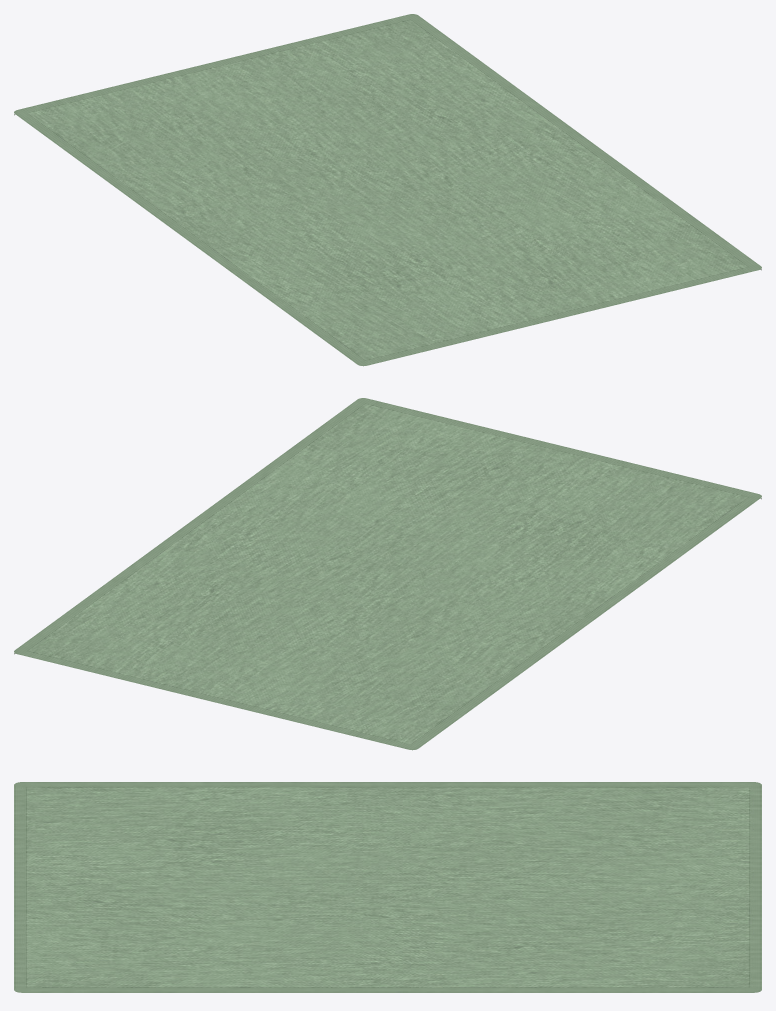
Rendered from green_S.glb.
3 views of the same model, one above another, from view 1: azimuth 30°, elevation 25°; view 2: azimuth 150°, elevation 25°; view 3: azimuth 270°, elevation 25° (orthographic). The views are drawn at different scales.
Parts seen in each view (by area): view 1: reliv_green_S; view 2: reliv_green_S; view 3: reliv_green_S.
Part boxes in pixels (bbox=[...]): reliv_green_S: bbox=[14, 14, 761, 366]; reliv_green_S: bbox=[14, 398, 761, 750]; reliv_green_S: bbox=[14, 782, 761, 992].
Bounding box in the file's own units: 1 × 0.009 × 1.5.
Materials: 2 (1 with a texture image).
